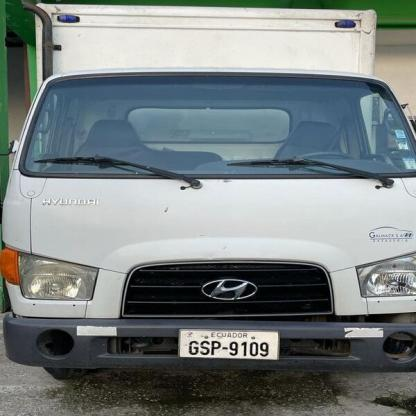Placa: (178, 328, 282, 362)
